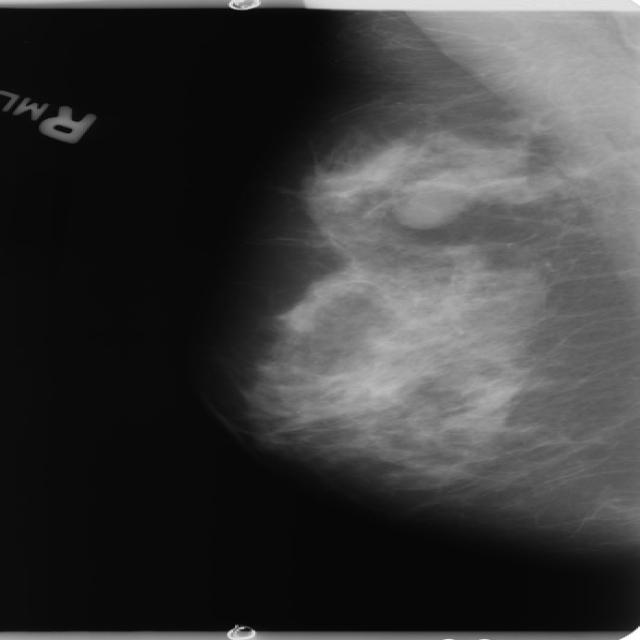tumour: (390, 176, 476, 228)
